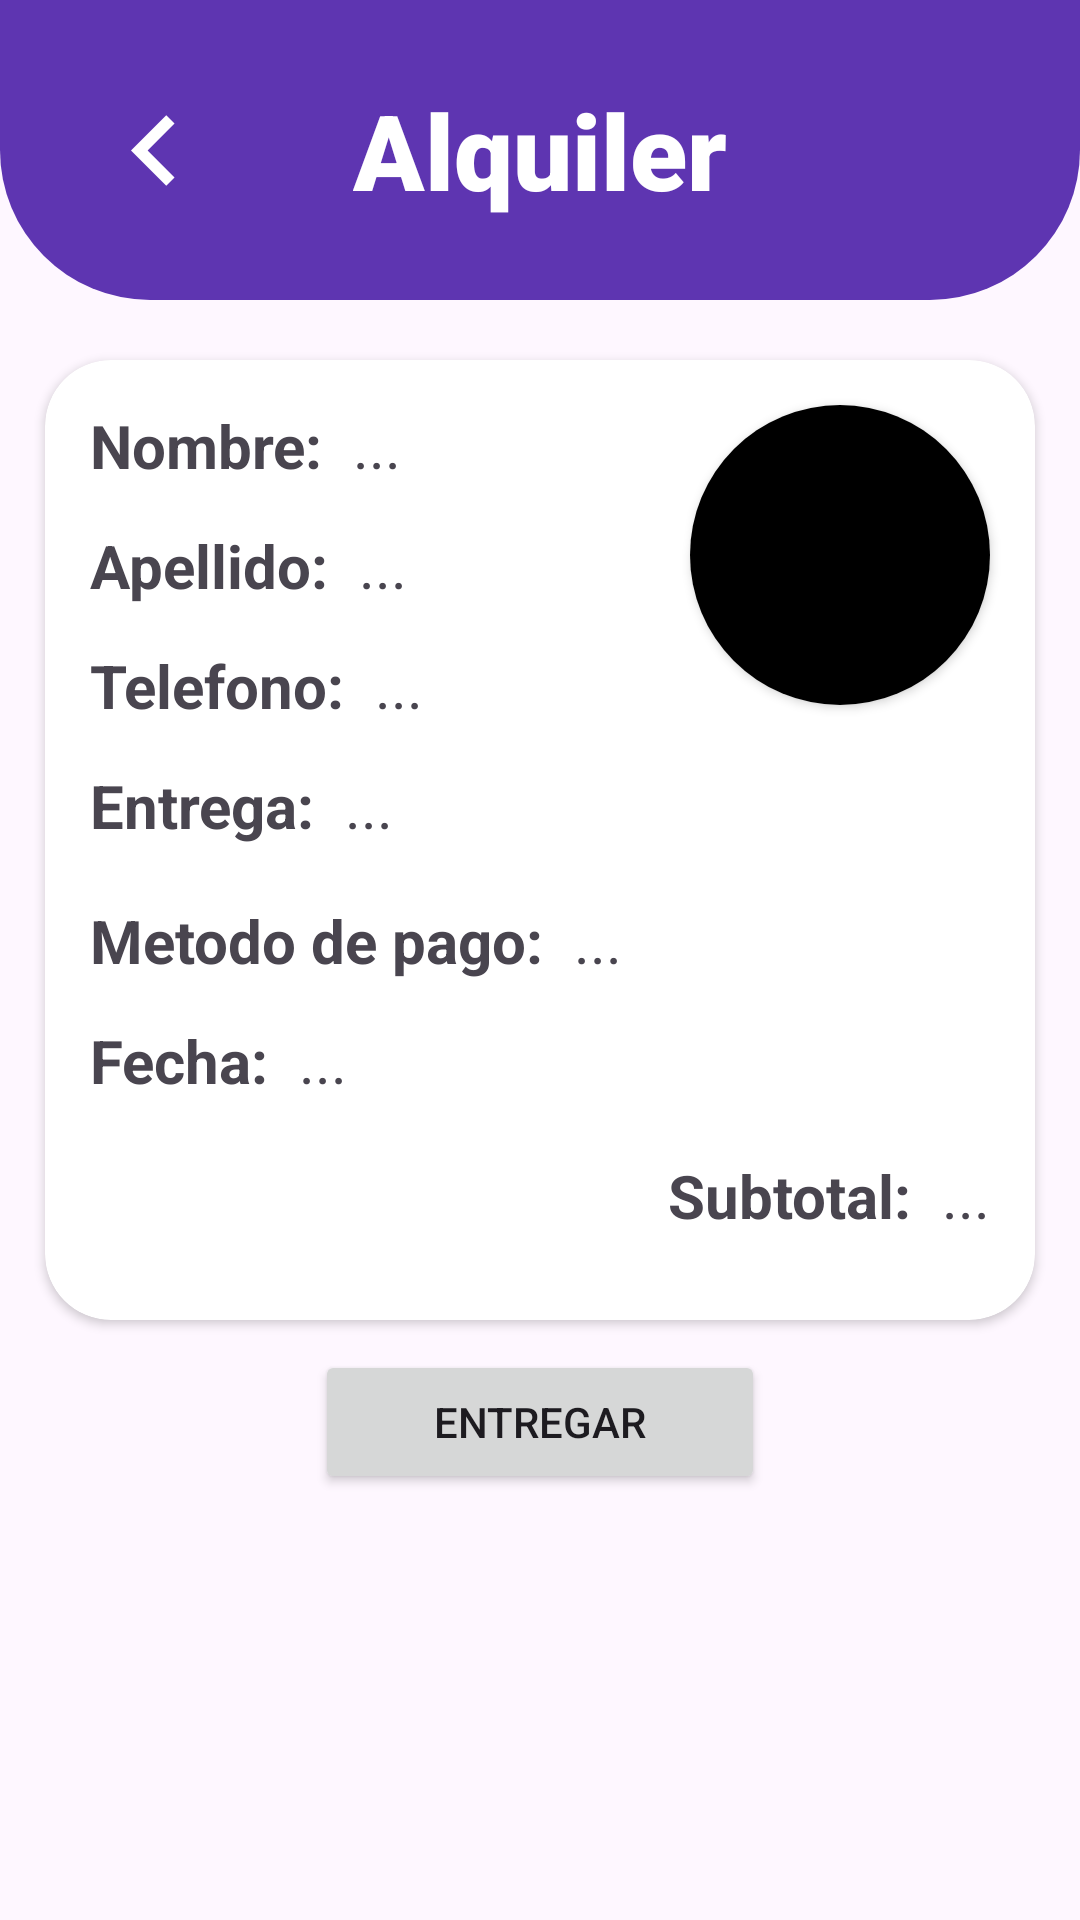

Icons on this 1080px×1920px Android screen, each with its box as (x1, y1, x2, y2):
back: (131, 115, 175, 186)
